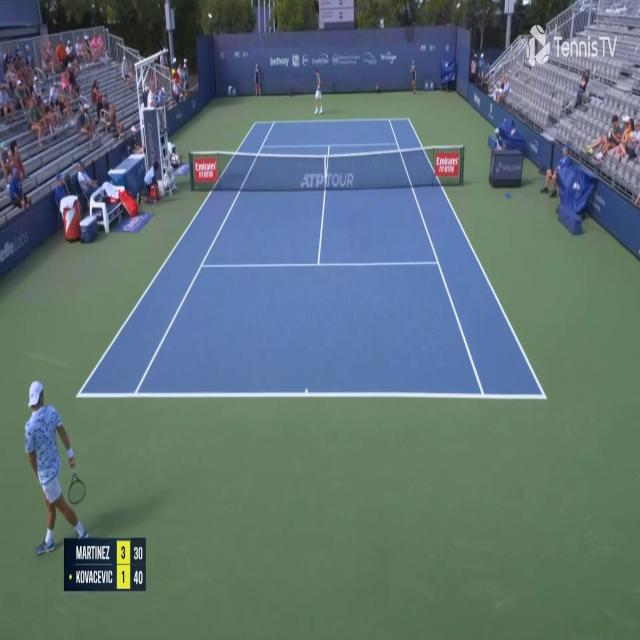tennis-player: (24, 374, 94, 556), (312, 66, 324, 116)
